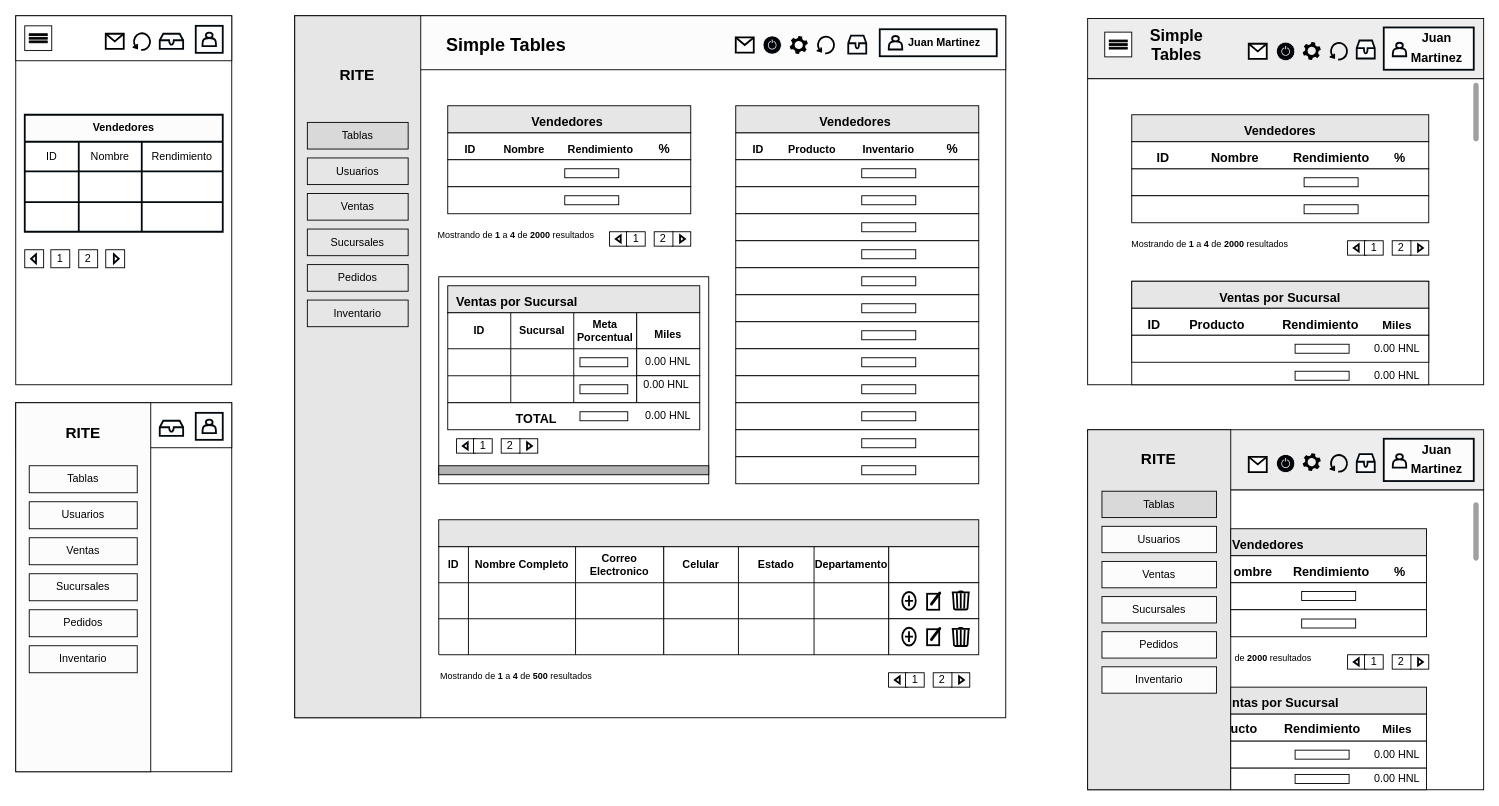
This 1499x806 diagram has some shape labels left out. Here are the shapes that lost their labels. From the top down, the centre of each, then its label:
At point 708,533: "Clientes".
At point 933,564: "Acciones".
